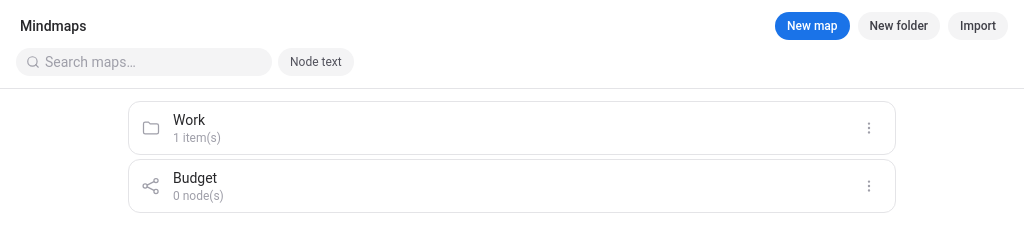
it: MindmapBrowser — search › finds maps and folders by name in every folder, with their path
Type "holiday" into the field named "Search mindmaps". click: (144, 62)
box: [16, 48, 272, 76]
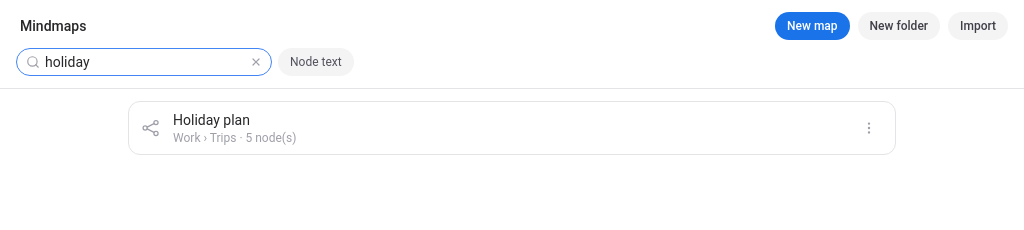
Expected: the text "Holiday plan" is shown, [173, 112, 250, 128]
Expected: the text "Work › Trips" is shown, [173, 131, 236, 145]
Expected: the button "Budget" is gone
Replace the text in the field named "Search mindmaps" with "trips". click: (144, 62)
box: [16, 48, 272, 76]
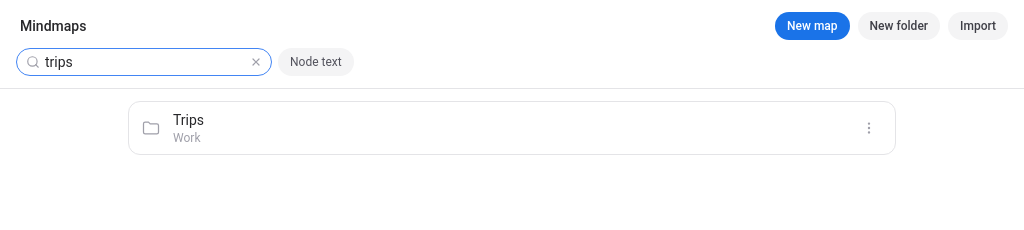
Expected: the text "Work" is shown, [173, 131, 200, 145]
Expected: the text "Trips" is shown, [173, 112, 204, 128]
